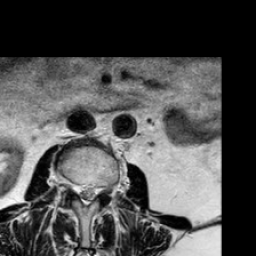CCS_normal: (83, 173, 89, 212)
LFS_normal: (99, 173, 108, 201)
LLS_normal: (89, 174, 99, 203)
RFS_normal: (68, 172, 76, 201)
RLS_normal: (76, 174, 83, 205)
